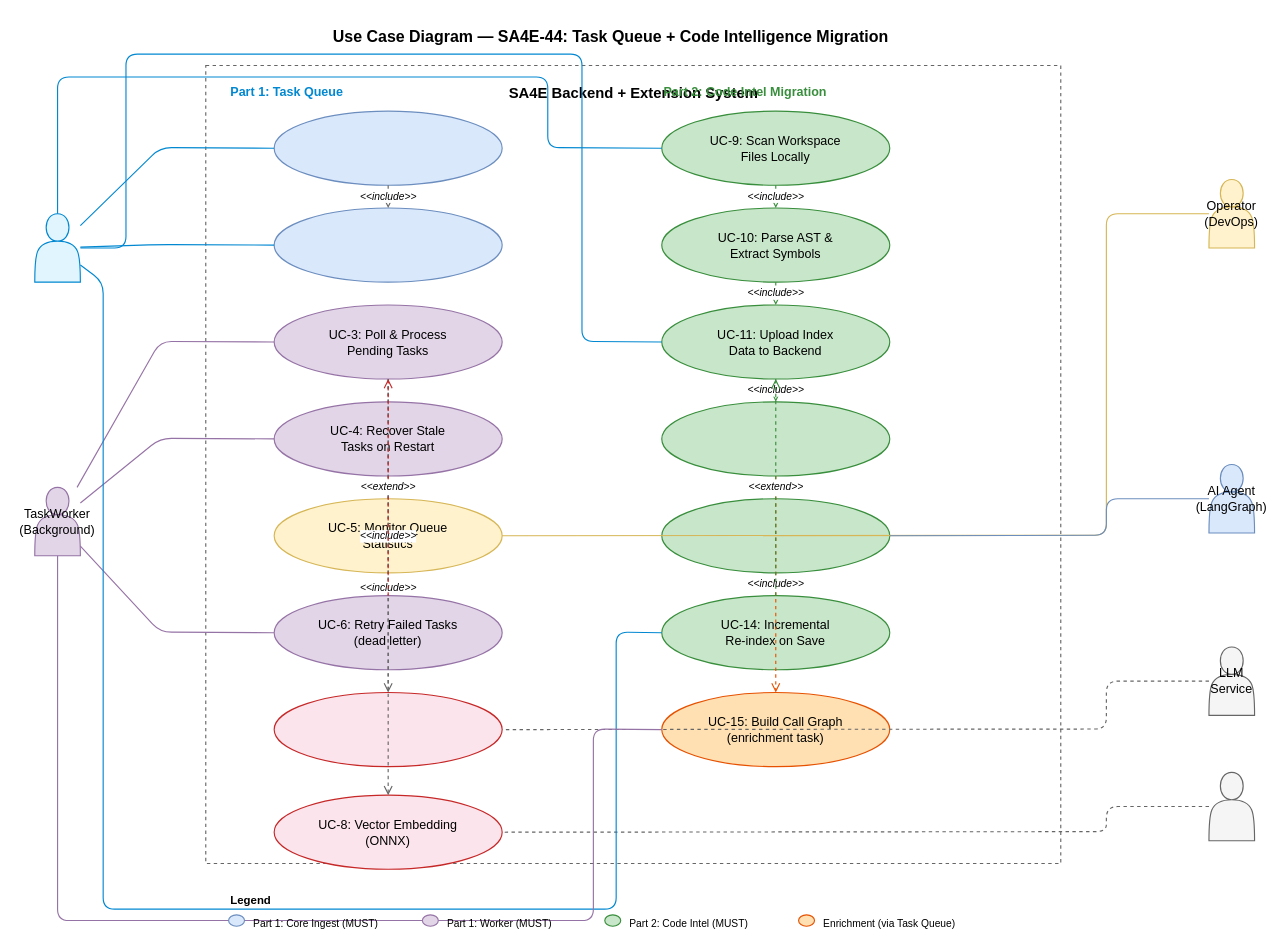
Image size: 1286x950. Some labels were removed from this diagram. Each missing label, with the box of its shape:
IDE Extension (Caller): (34, 213, 80, 282)
ONNX Runtime: (1208, 771, 1255, 841)
UC-12: Store Code Intelligence in DB: (661, 401, 890, 476)
UC-13: Query code_search / code_symbols: (661, 498, 890, 573)
UC-1: Ingest Knowledge Entry (atomic): (273, 110, 502, 185)
UC-2: Create Pending Tasks in Transaction: (273, 207, 502, 282)
UC-7: Tag Enrichment (LLM): (273, 691, 502, 767)
